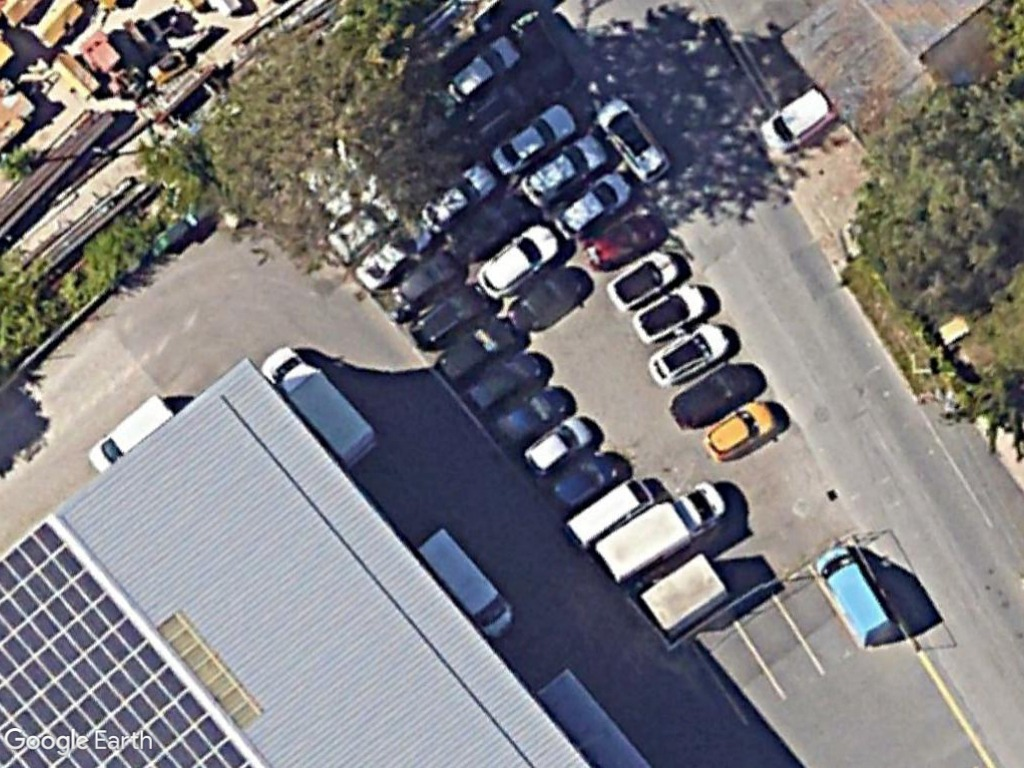car: (593, 89, 675, 188), (474, 220, 567, 301), (491, 98, 580, 178), (516, 132, 606, 203), (644, 320, 736, 388), (443, 34, 521, 109), (547, 170, 633, 238), (699, 398, 784, 462), (519, 413, 595, 479)
truck: (254, 344, 381, 470), (591, 485, 732, 585)
van: (413, 526, 518, 641), (814, 538, 897, 650), (561, 474, 657, 549), (759, 86, 839, 157)
